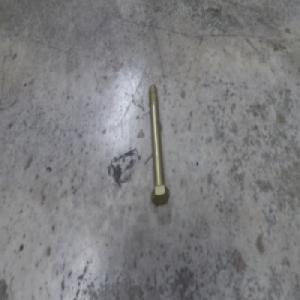Bolt: (147, 86, 169, 208)
